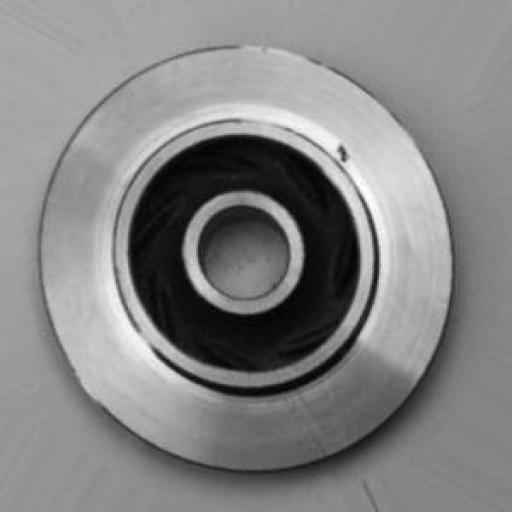defect: (305, 120, 381, 193)
